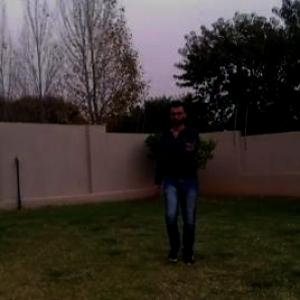takeoff-hand: (182, 129, 204, 160)
